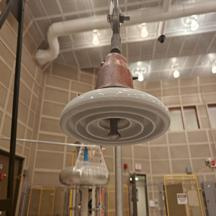insulator: (54, 48, 180, 152)
